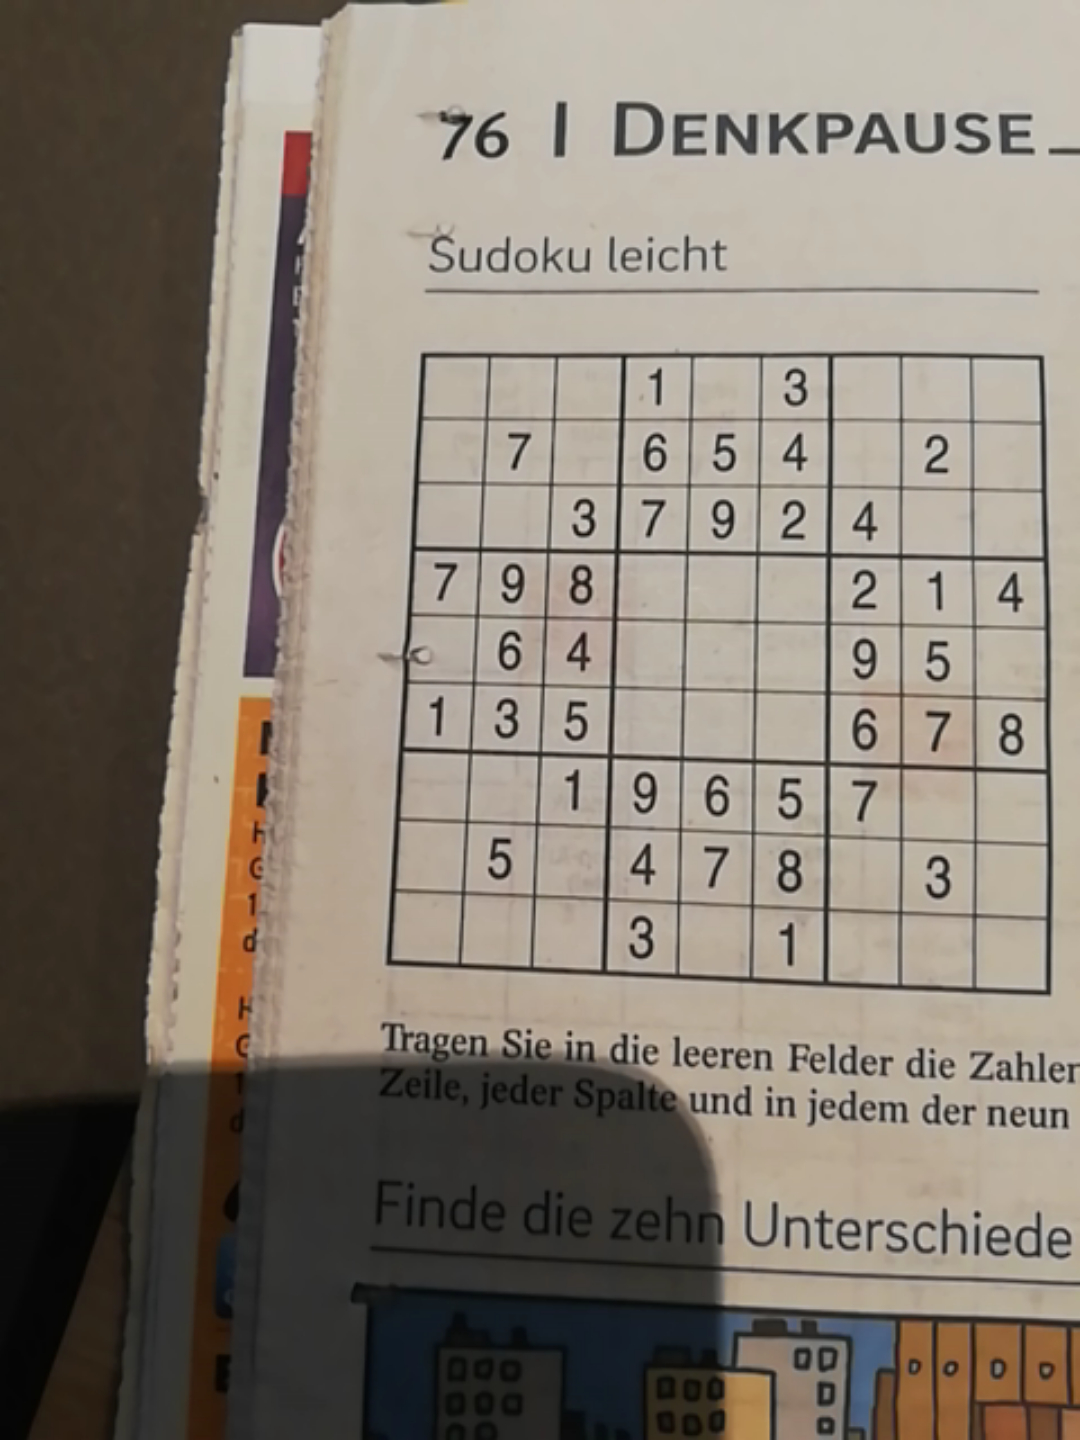sudoku: (382, 348, 1052, 999)
